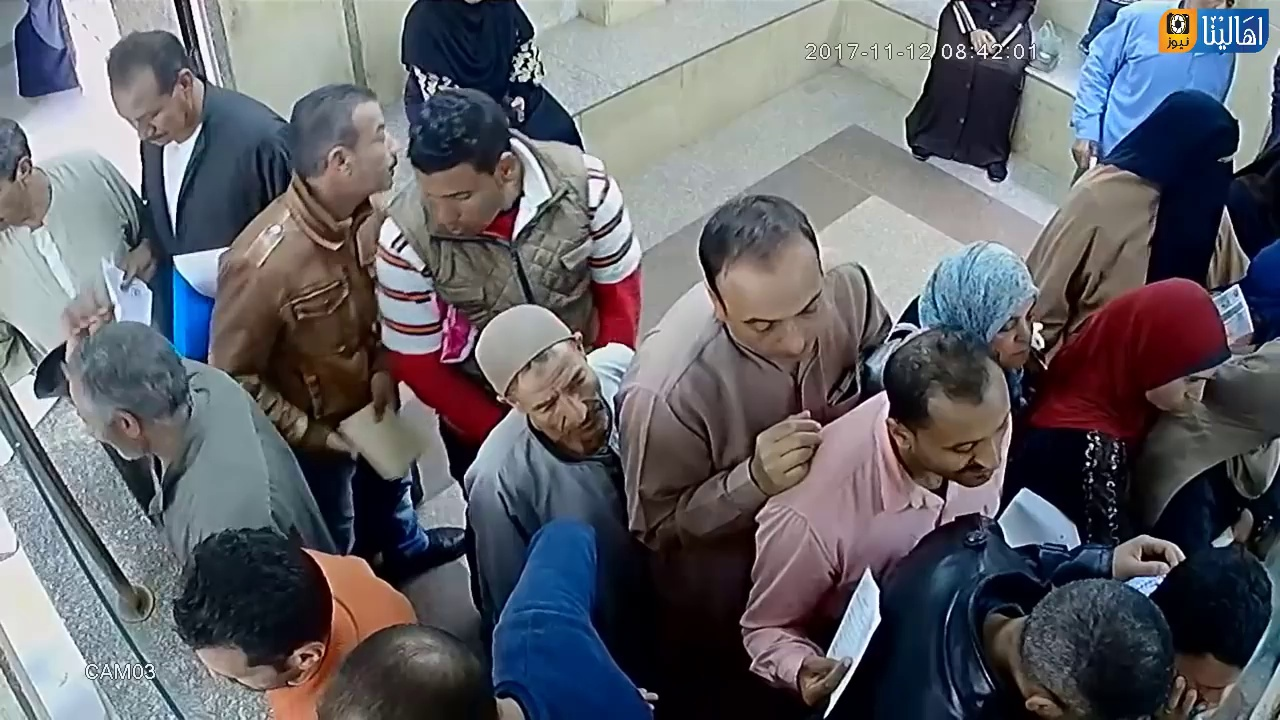face: (714, 255, 821, 377), (522, 352, 614, 456), (930, 383, 1006, 494), (325, 115, 404, 203), (417, 159, 501, 241), (105, 79, 193, 151), (987, 295, 1054, 377)
